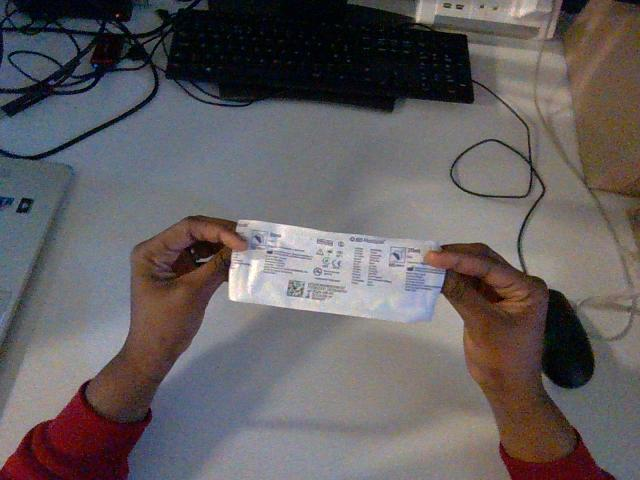syringe: (229, 220, 444, 321)
